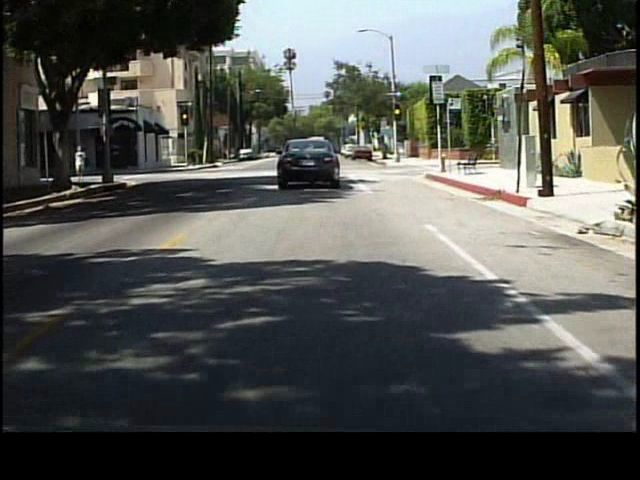person: (73, 143, 89, 186)
